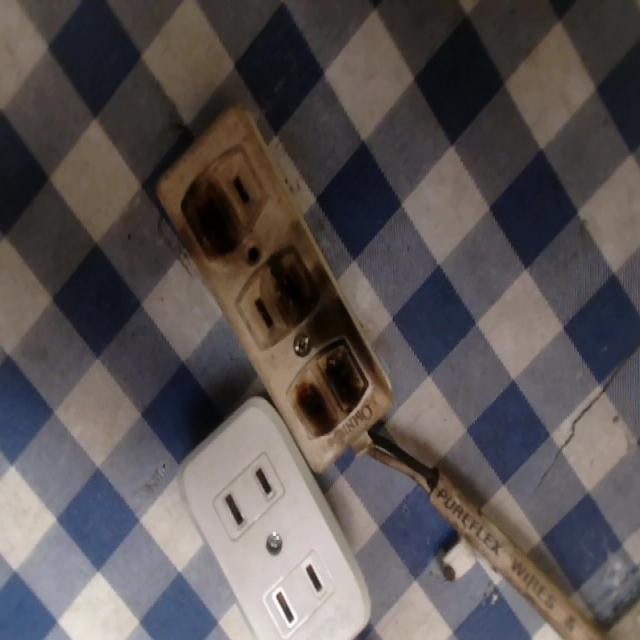-: (290, 347, 371, 422), (261, 232, 329, 320), (180, 173, 242, 259)
